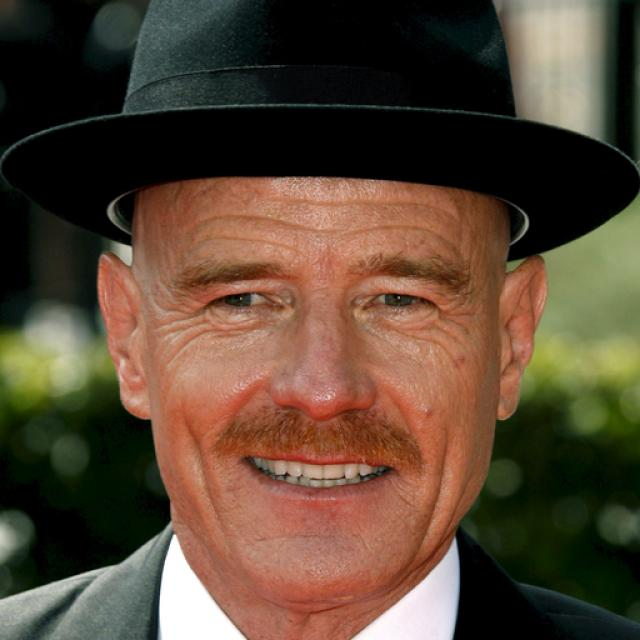Acne: (413, 399, 439, 424)
Wrinkle: (181, 208, 465, 252), (408, 421, 457, 554), (268, 191, 467, 216), (193, 228, 298, 258)
